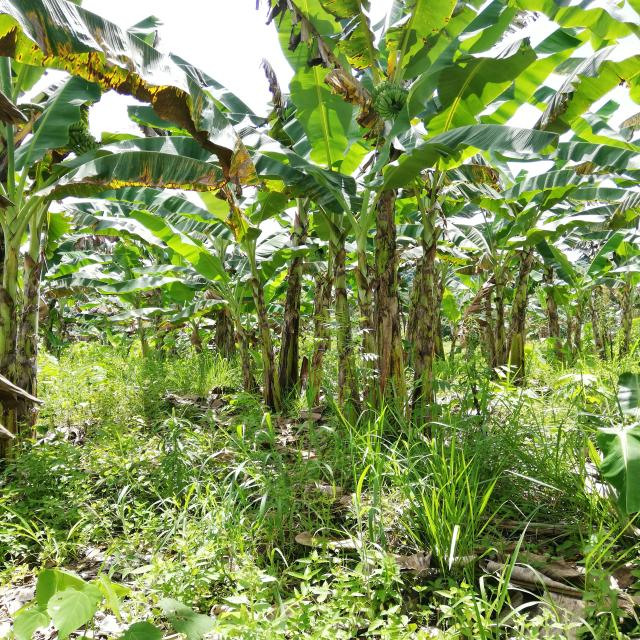Banana-plant: (0, 192, 43, 461), (369, 176, 403, 440), (407, 191, 441, 428), (232, 241, 272, 422), (323, 205, 355, 426), (280, 199, 304, 416), (510, 201, 530, 396)
